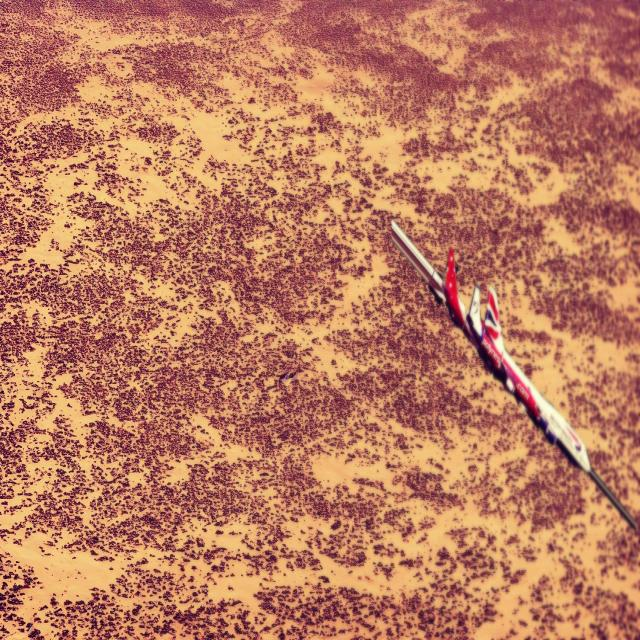airplane: (390, 218, 636, 530)
